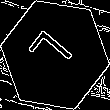L_SE: (27, 27, 83, 83)
